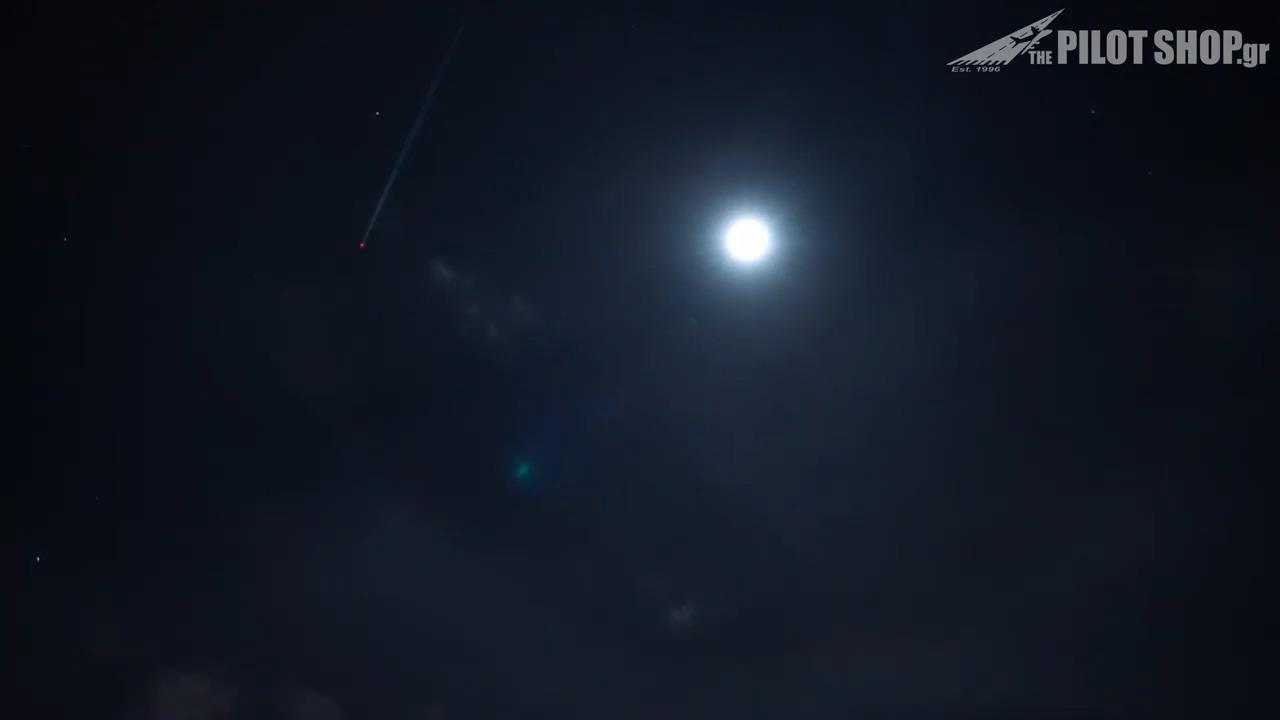Plane: (287, 5, 533, 268)
